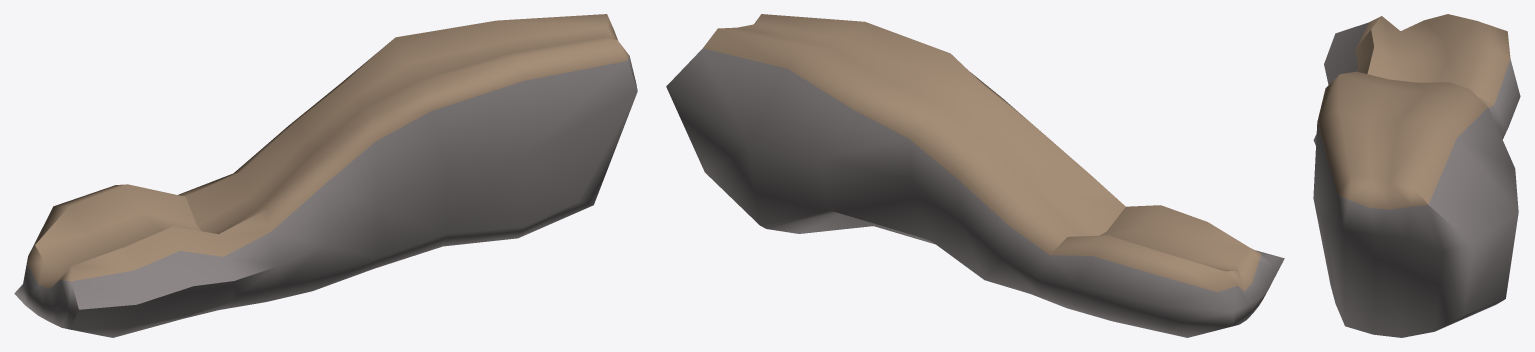
File: Schwebeplattform_1.fbx
3 renders of one model, left to right at view 1: azimuth 30°, elevation 25°; view 2: azimuth 150°, elevation 25°; view 3: azimuth 270°, elevation 25°, orthographic. The views are drawn at different scales.
Parts seen in each view (by area): view 1: Schwebeplattform_1; view 2: Schwebeplattform_1; view 3: Schwebeplattform_1.
Part boxes in pixels (x1,y1,x2,y2): Schwebeplattform_1: [14, 14, 637, 337]; Schwebeplattform_1: [666, 14, 1284, 337]; Schwebeplattform_1: [1313, 14, 1520, 337].
Size of the model in its own units: 5955 by 1960 by 1712.
